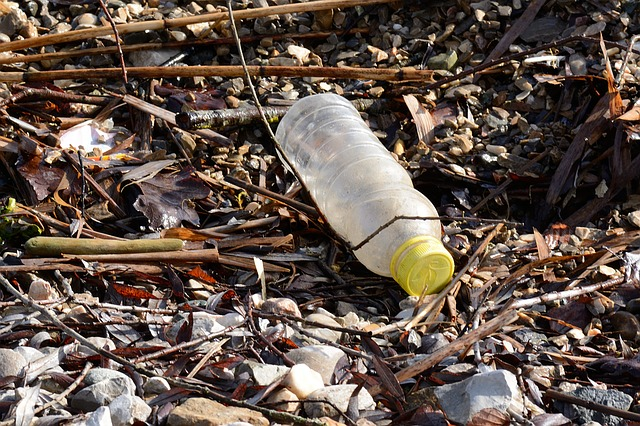plastic_bottle: (269, 87, 459, 301)
